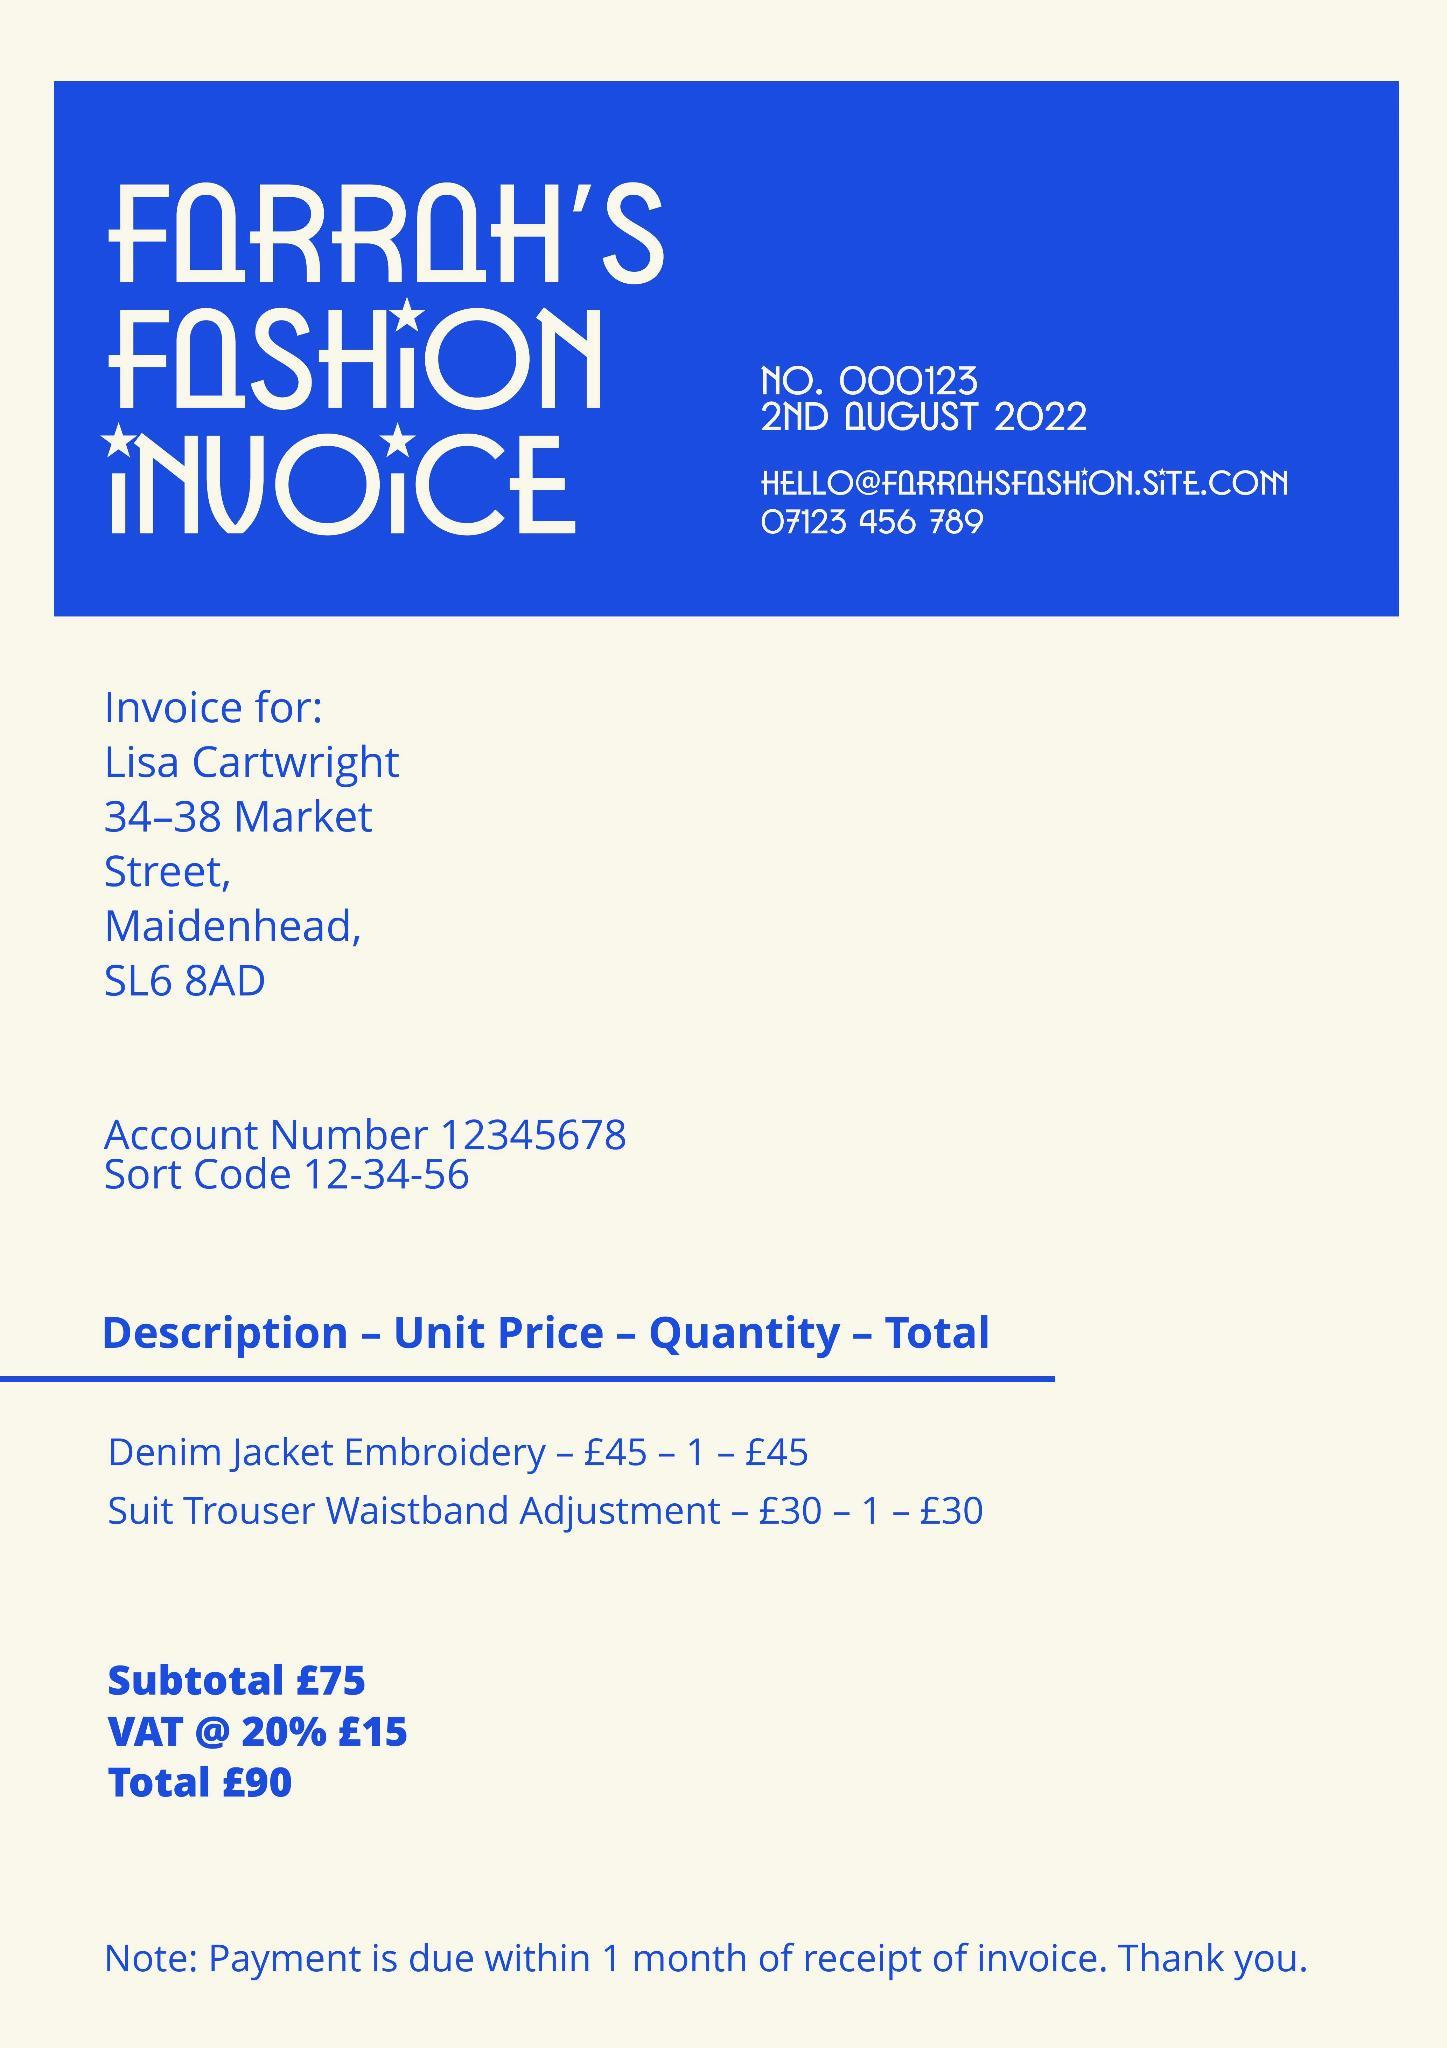ROI: (5, 1303, 1084, 1555), (75, 160, 680, 578), (81, 678, 468, 1033), (81, 1910, 1334, 2003), (27, 1630, 456, 1805), (70, 1098, 709, 1206), (749, 460, 1304, 557), (749, 341, 1121, 438)
